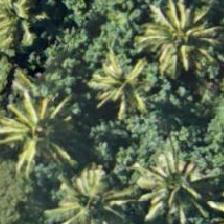coconut_tree: (76, 42, 166, 132), (137, 137, 223, 223), (0, 74, 82, 164), (134, 0, 223, 82), (132, 0, 222, 78), (22, 147, 112, 223), (0, 0, 67, 70)
